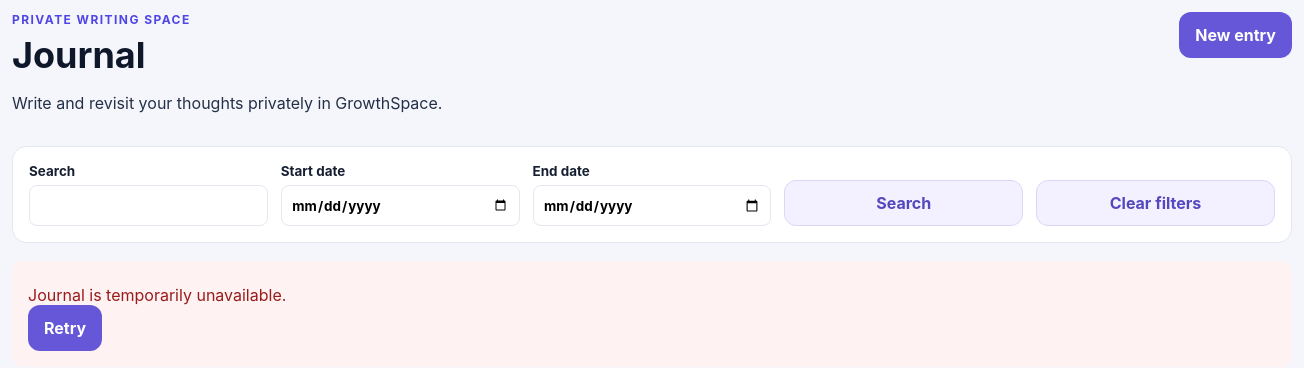
JournalPage › shows a retryable loading failure without browser storage
The image size is (1304, 368).
Check: the message shows "temporarily unavailable", box [28, 285, 286, 305]
Click the button "Retry": {"x": 65, "y": 328} [28, 305, 102, 351]
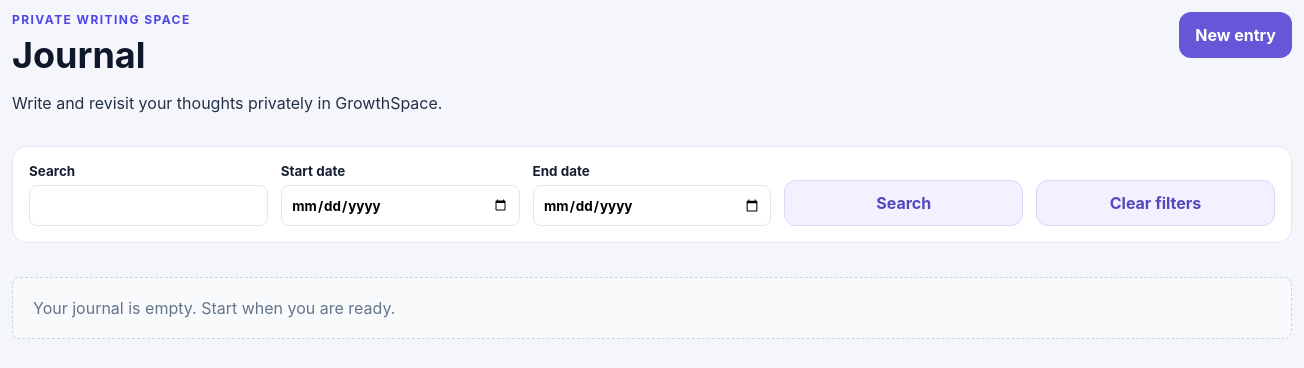
Check: the text "Your journal is empty. Start when you are ready." is shown, box [12, 277, 1292, 339]
